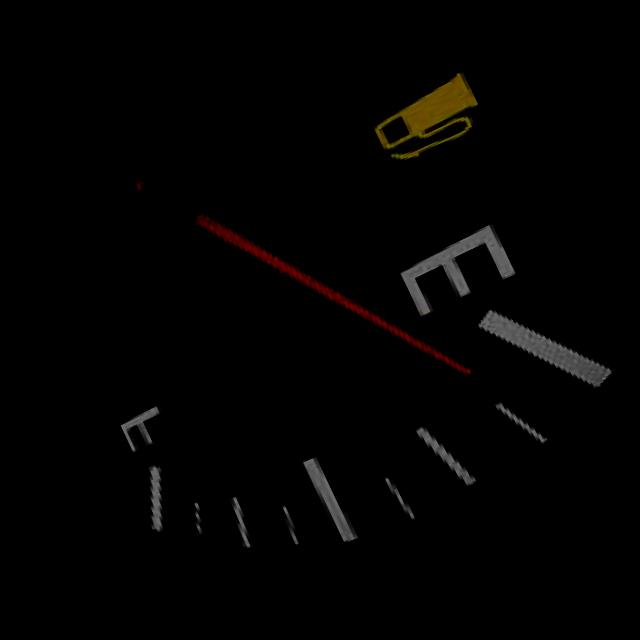kontrolka: (336, 49, 512, 200)
